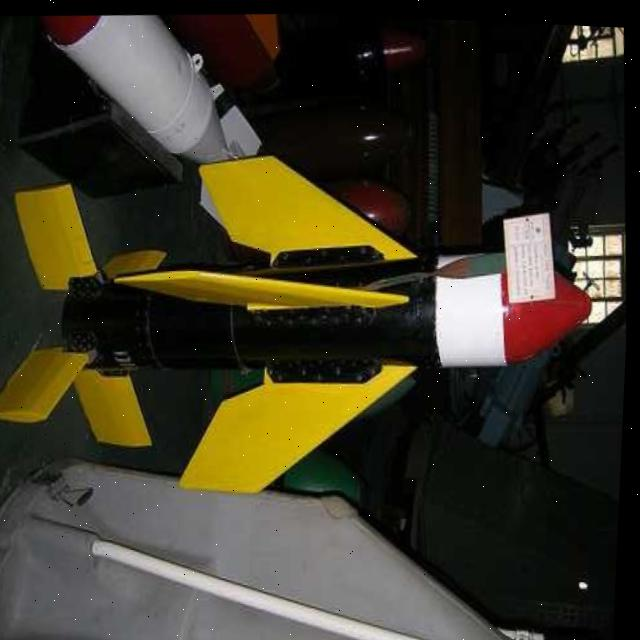missile: (0, 150, 608, 510)
